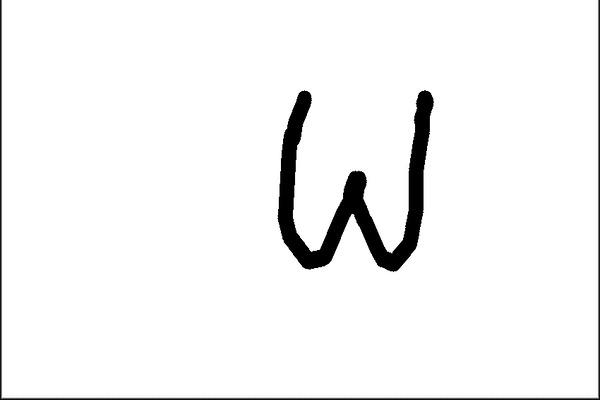w: (261, 81, 453, 289)
